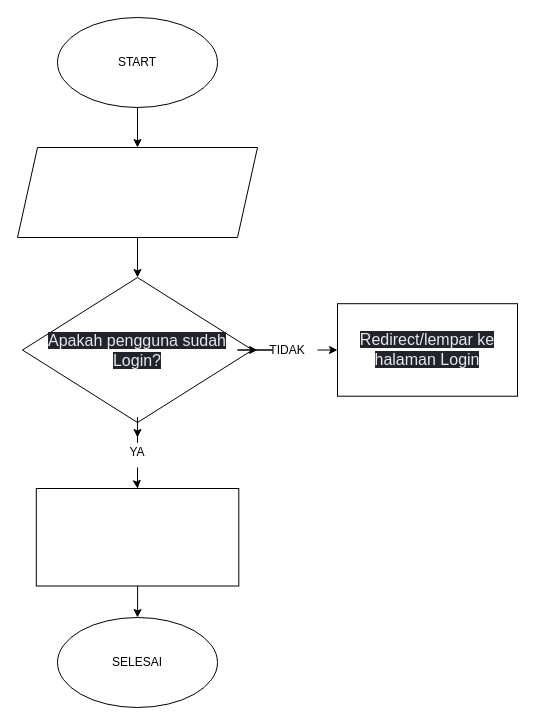
Some shapes in this 535 by 725 pixel diagram are drawn without their labels. The box of each missing label's shape, as (x1, y1, x2, y2) in pixels:
Pengunjung mengakses URL /events/create: (16, 146, 258, 238)
Tampilkan halaman form pembuatan acara: (35, 488, 239, 586)
